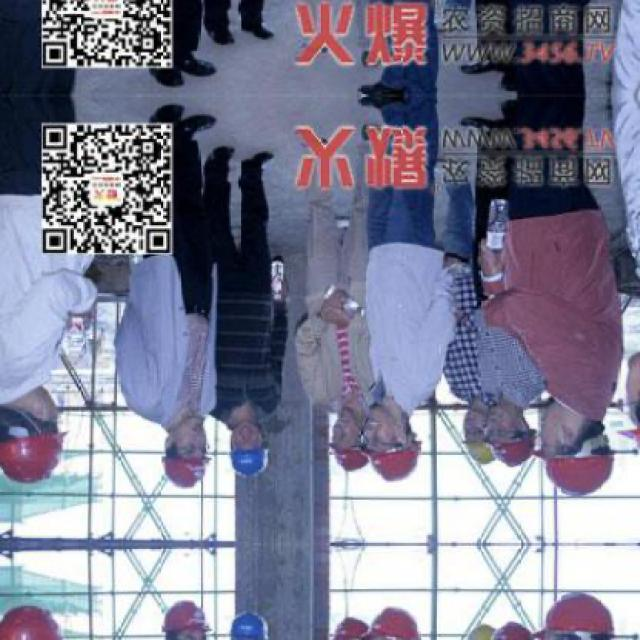con casco: (520, 387, 640, 502), (335, 371, 416, 499), (0, 374, 68, 524), (470, 387, 560, 483), (206, 378, 267, 483), (435, 386, 507, 469), (135, 407, 185, 493), (316, 407, 357, 478)
